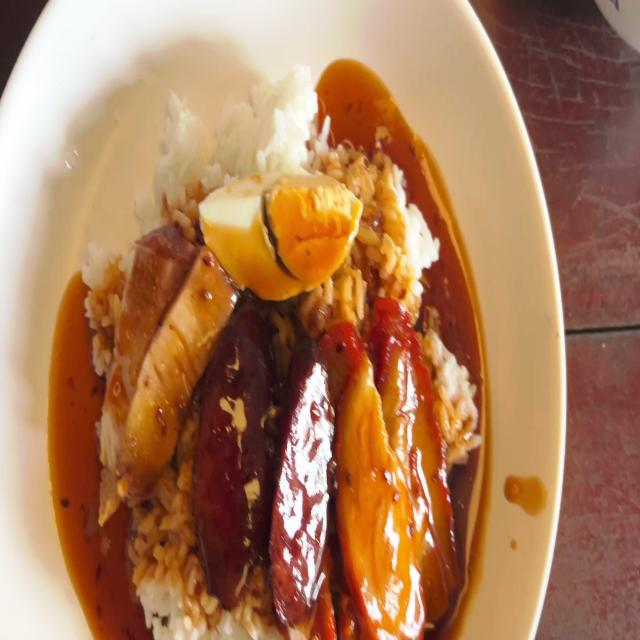boiled_egg: (200, 174, 360, 290)
chainese_sausage: (206, 316, 332, 602), (198, 327, 280, 580), (268, 352, 334, 615)
crispy_pork: (101, 227, 222, 460), (95, 238, 179, 451), (131, 265, 224, 455)
red_pork: (332, 307, 454, 640), (336, 320, 421, 638), (381, 306, 450, 598)
red_pork_and_crispy_pork: (81, 64, 479, 640)
rice: (132, 487, 206, 640), (237, 55, 323, 168), (368, 161, 431, 300), (159, 96, 219, 206)
